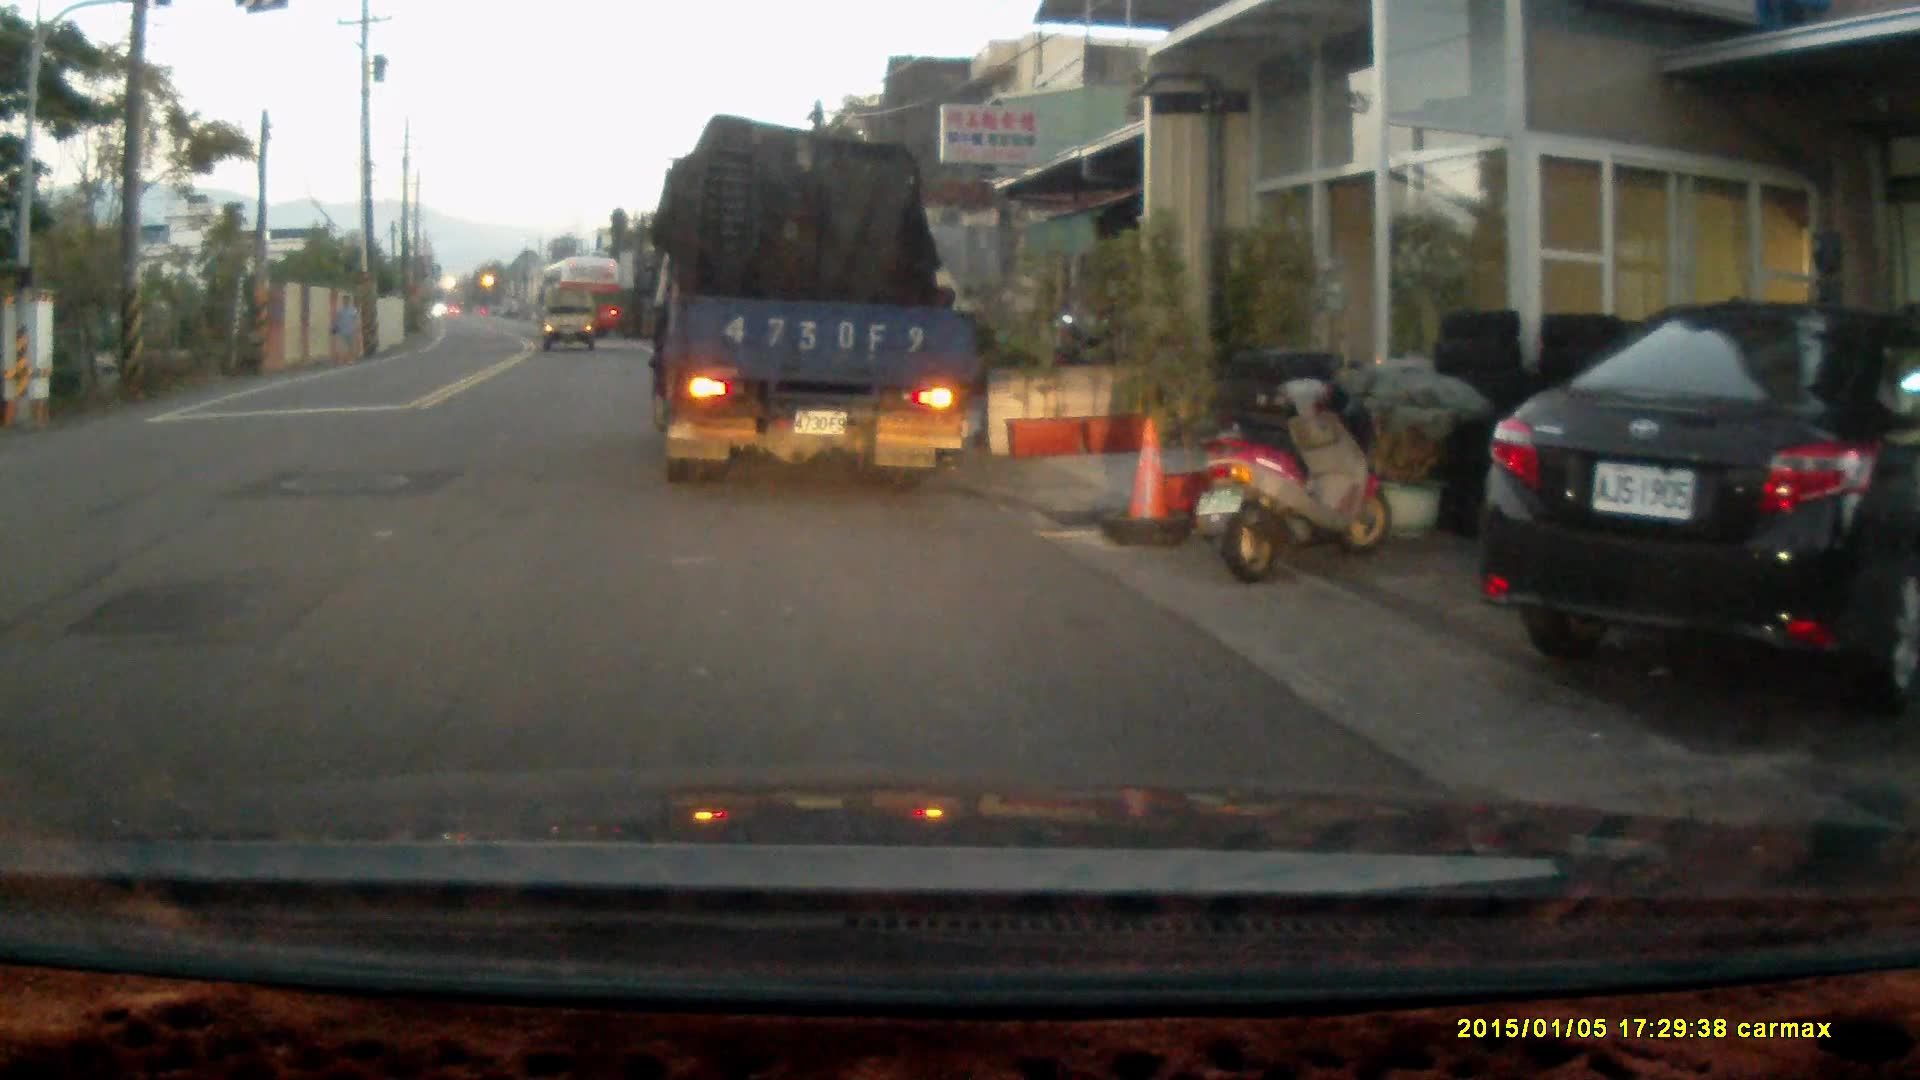pedestrian: (326, 292, 360, 364)
vehicle: (1483, 299, 1920, 715), (651, 124, 983, 497), (534, 256, 622, 338), (543, 284, 599, 357)
